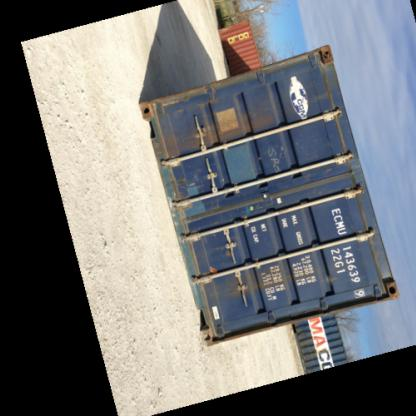Damage: (170, 113, 264, 154), (144, 82, 228, 112), (225, 273, 301, 301), (171, 166, 216, 209), (311, 74, 337, 118), (378, 279, 402, 301), (319, 272, 343, 286), (315, 46, 334, 63)
